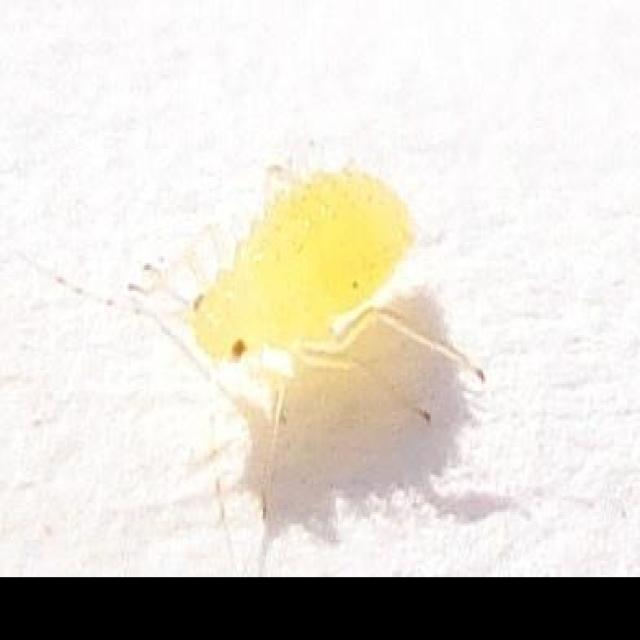aphid: (73, 90, 539, 528)
